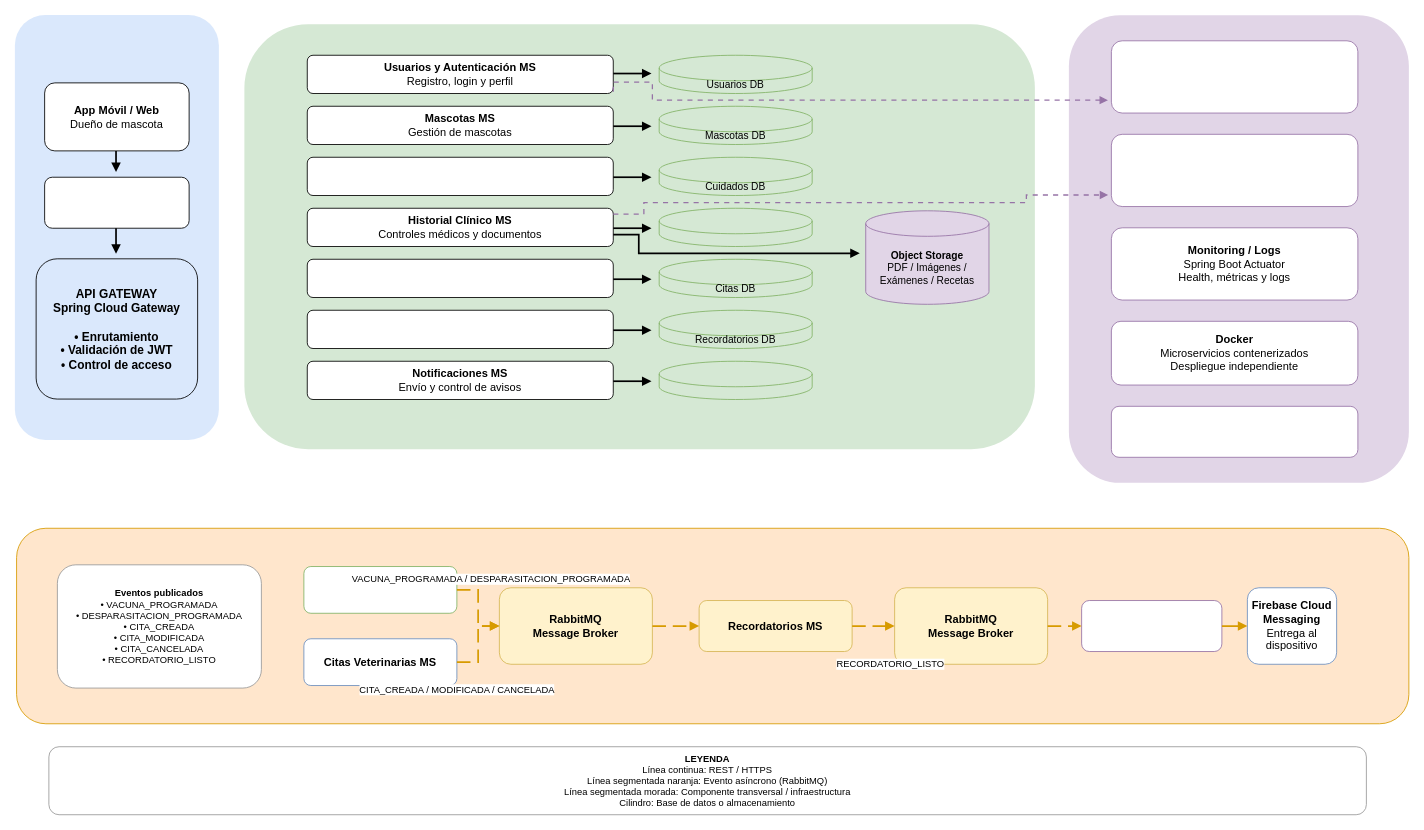
This 1424x830 diagram has some shape labels left out. Each missing label, with the box of its shape:
Circuit Breaker Resilience4j Evita fallas en cascada: (1111, 133, 1358, 207)
Citas Veterinarias MS Gestión de citas: (306, 258, 613, 298)
Clínica DB: (658, 207, 812, 246)
Cuidados Preventivos MS: (303, 566, 457, 613)
Cuidados Preventivos MS Vacunas y desparasitaciones: (306, 156, 613, 196)
HTTPS + JWT Comunicación segura: (44, 176, 189, 228)
Notificaciones DB: (658, 360, 812, 400)
Notificaciones MS: (1081, 600, 1222, 652)
Recordatorios MS Qué recordar y cuándo: (306, 309, 613, 348)
Service Registry Netflix Eureka Descubrimiento de servicios: (1111, 40, 1358, 113)
Servicio Push Externo Firebase Cloud Messaging: (1111, 405, 1358, 457)
